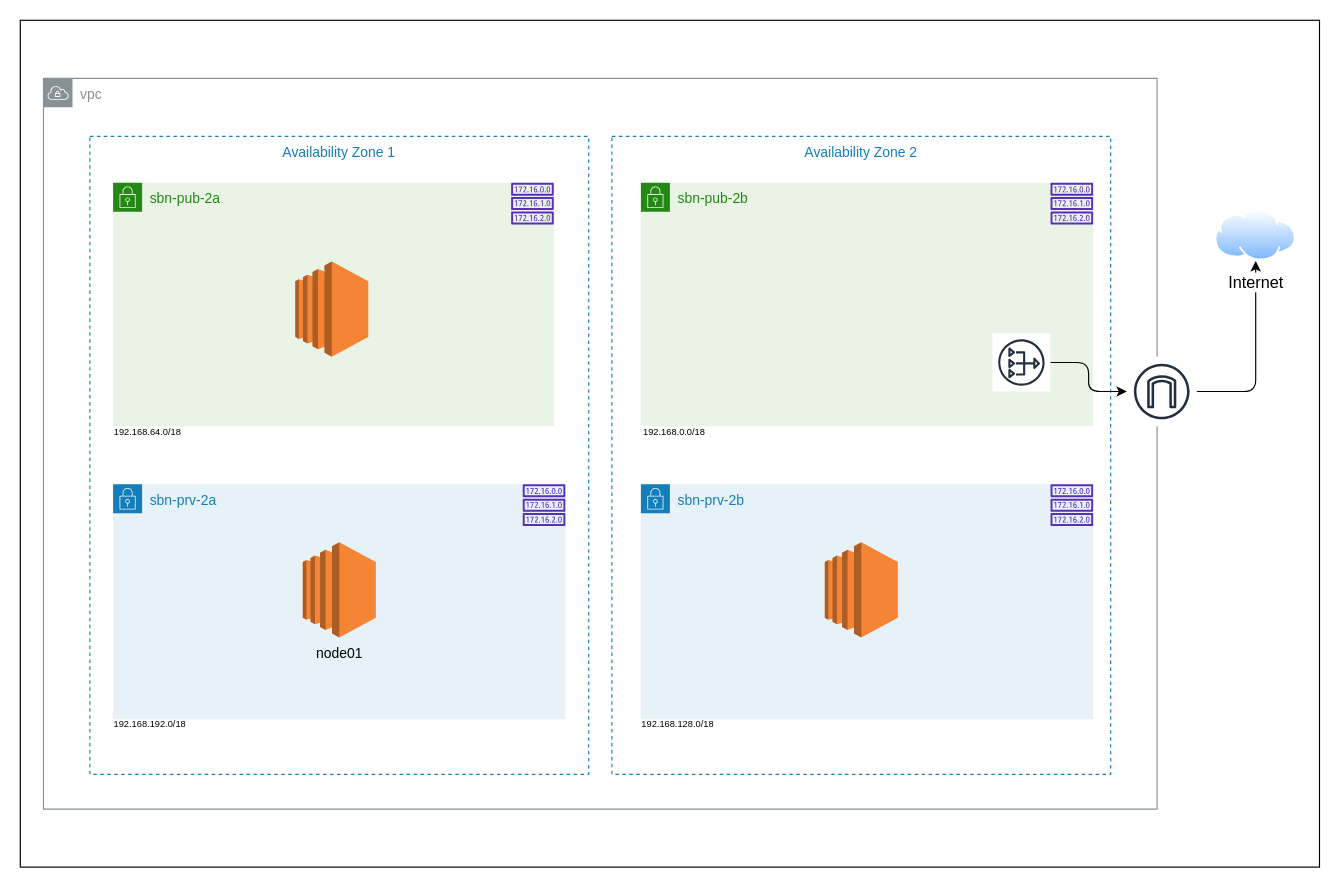
The diagram is 1340 pixels wide and 887 high, and some of its shapes have lost their labels. The centre of each missing label's shape, as x and y in pixels:
"Internet gateway" goes at [1161,391].
"master" goes at [331,308].
"NAT gateway" goes at [1020,362].
"node02" goes at [861,589].
